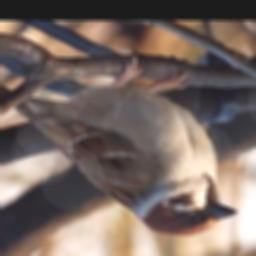Sparrow: (0, 47, 243, 238)
